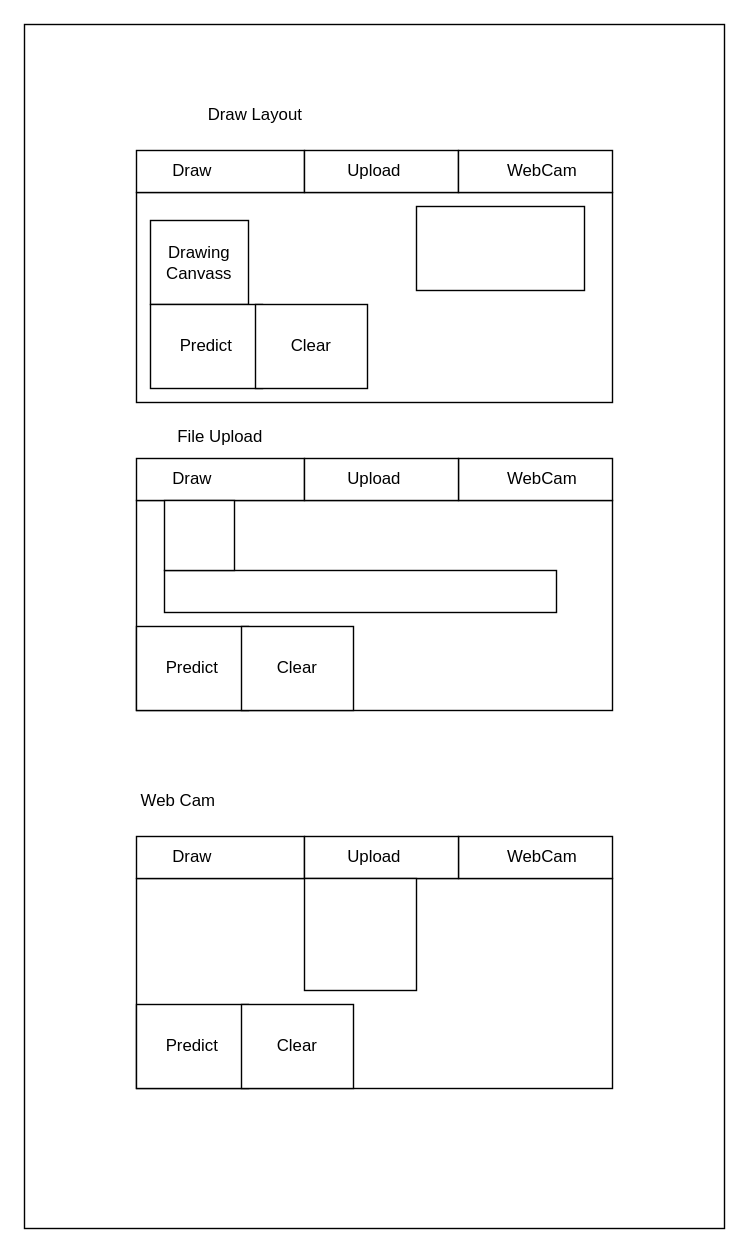
This 749x1253 diagram has some shape labels left out. Here are the shapes that lost their labels. From the top down, the centre of each, then its label:
At pixel 499 247: "Drawing Settings".
At pixel 198 534: "Pic Peview".
At pixel 359 590: "File Selection".
At pixel 359 933: "View from Webcam".
